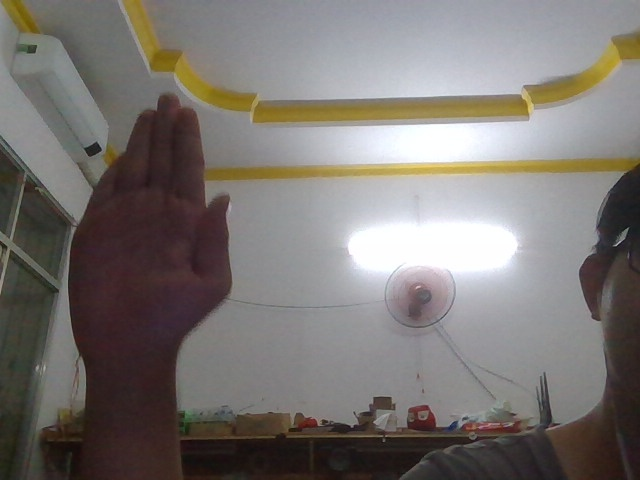stop: (53, 77, 256, 383)
